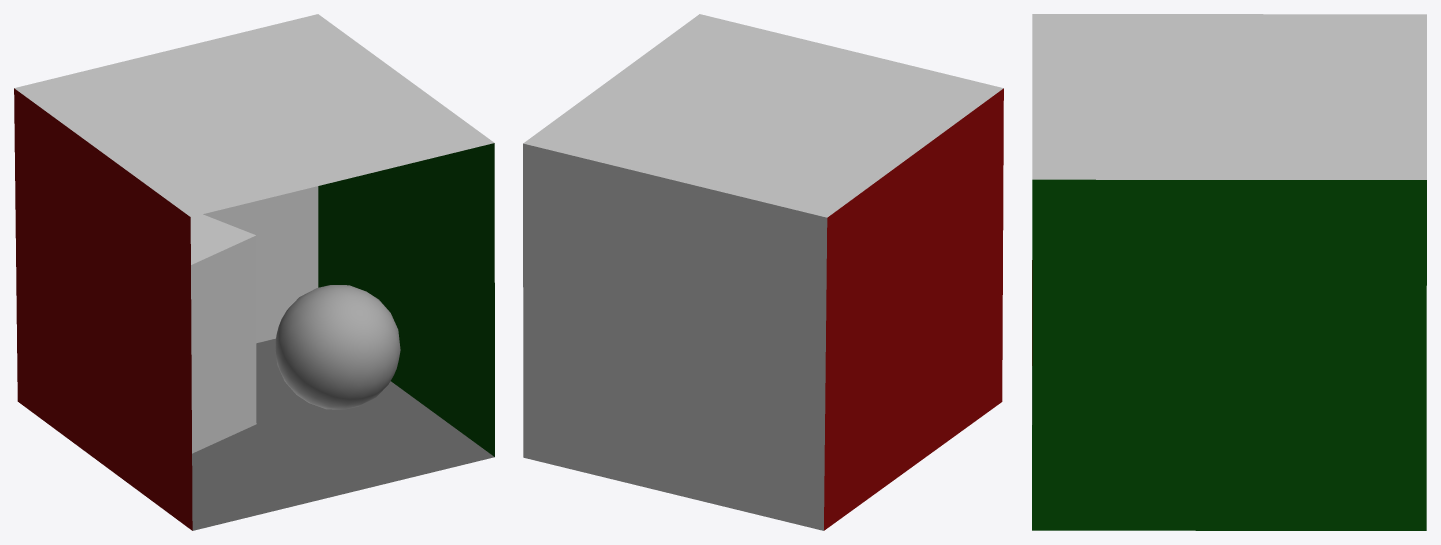
Rendered from cornellbox_icosphere.obj.
3 views of the same model, side by side, from view 1: azimuth 30°, elevation 25°; view 2: azimuth 150°, elevation 25°; view 3: azimuth 270°, elevation 25° (orthographic). The views are drawn at different scales.
Bounding box in the file's own units: 5.56 × 5.49 × 5.6.
